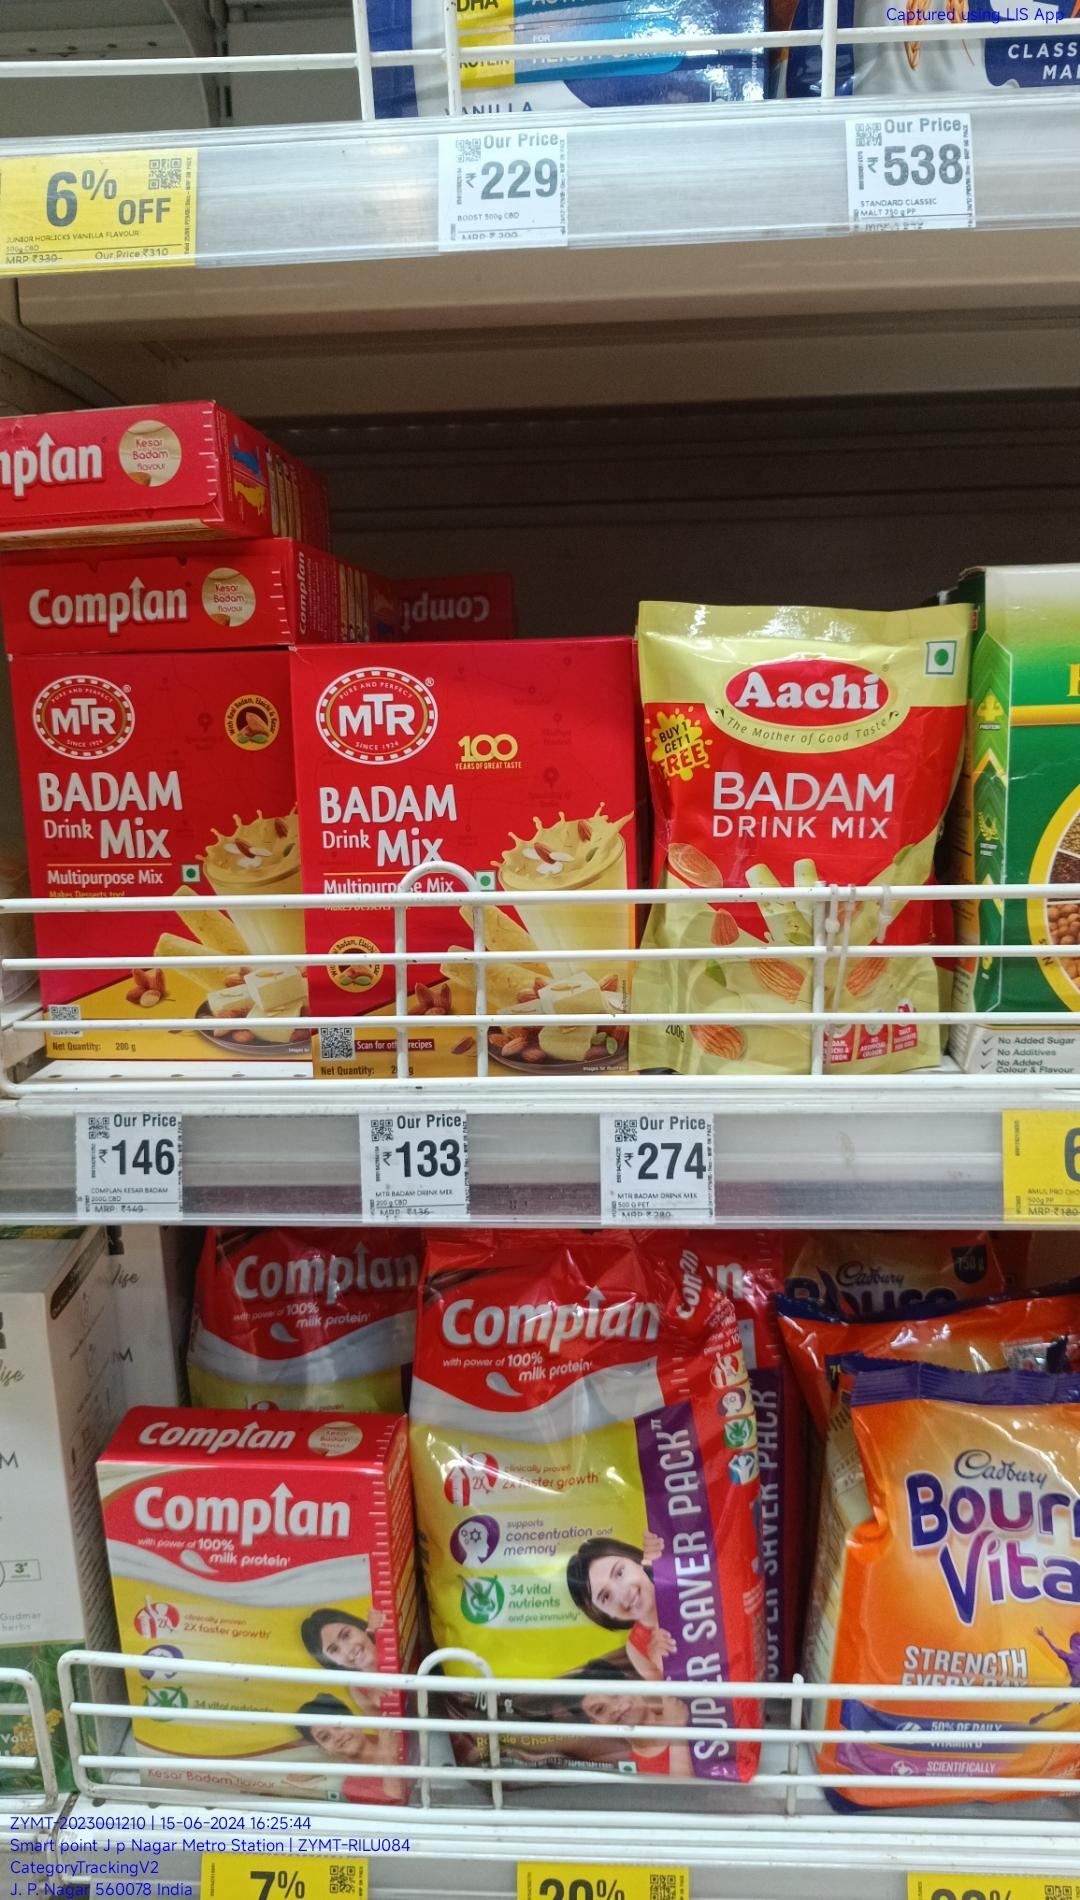BOURN_VITA_500_G_POUCH: (827, 1368, 1073, 1807)
COMPLAN_KESAR_BADAM_500_GMS_PACK: (98, 1460, 403, 1802)
COMPLAN_RC_POUCH_700_GMS_12: (441, 1244, 759, 1786)
